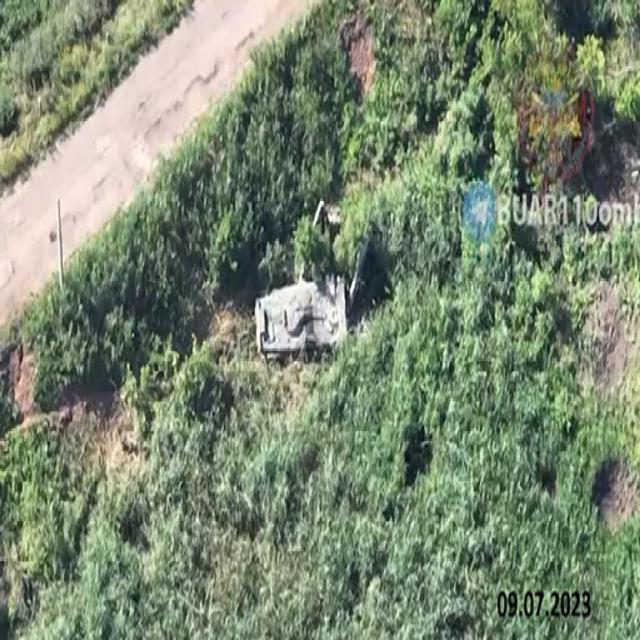APC-IFV: (244, 264, 354, 374)
